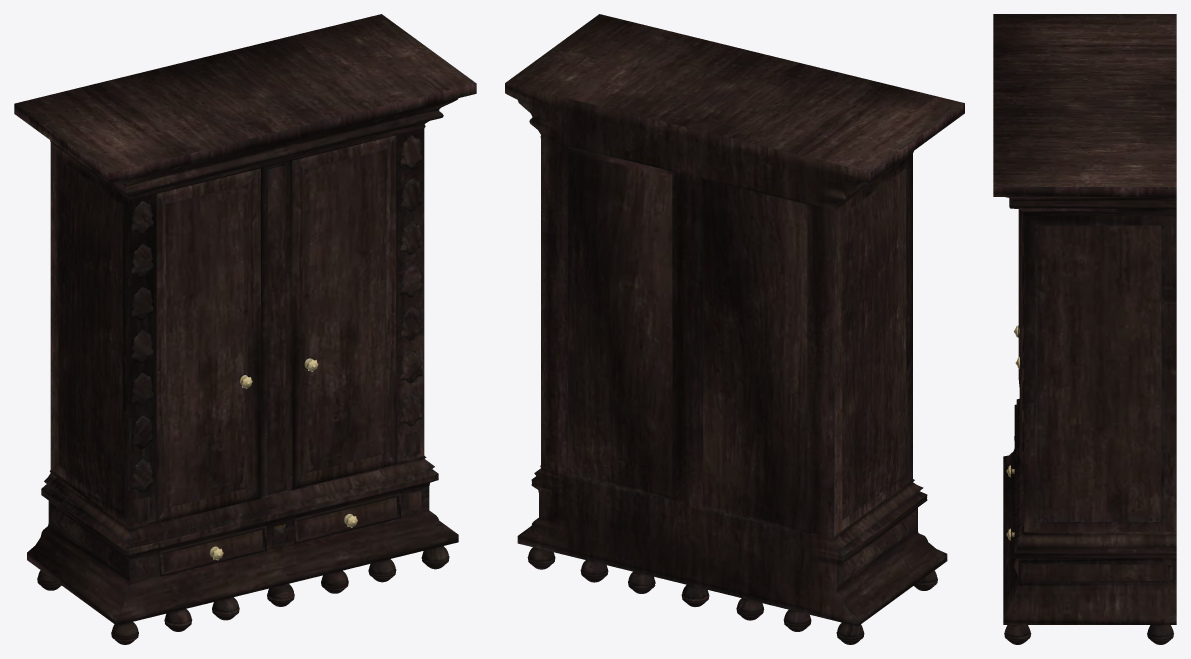
The model's file is Closet.glb.
3 views of the same model, side by side, from view 1: azimuth 30°, elevation 25°; view 2: azimuth 150°, elevation 25°; view 3: azimuth 270°, elevation 25° (orthographic). The views are drawn at different scales.
Parts seen in each view (by area): view 1: 2ndfFlr_BedroomCloset_Drawer_02_2ndfFlr_BedroomCloset_0; view 2: 2ndfFlr_BedroomCloset_Drawer_02_2ndfFlr_BedroomCloset_0; view 3: 2ndfFlr_BedroomCloset_Drawer_02_2ndfFlr_BedroomCloset_0.
Part boxes in pixels (x1,y1,x2,y2): 2ndfFlr_BedroomCloset_Drawer_02_2ndfFlr_BedroomCloset_0: (14,14,476,644); 2ndfFlr_BedroomCloset_Drawer_02_2ndfFlr_BedroomCloset_0: (505,14,964,644); 2ndfFlr_BedroomCloset_Drawer_02_2ndfFlr_BedroomCloset_0: (993,14,1176,644).
Bounding box in the file's own units: 179 × 226 × 80.17.
1 material, 1 textured.
